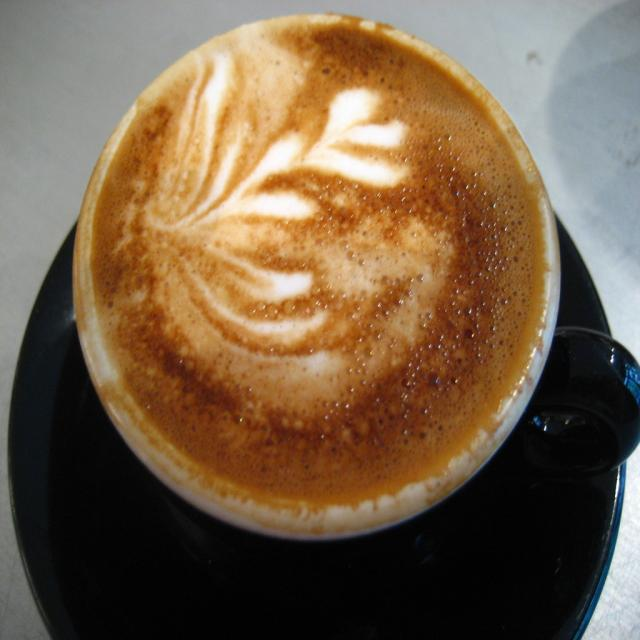Coffee: (48, 12, 570, 570)
